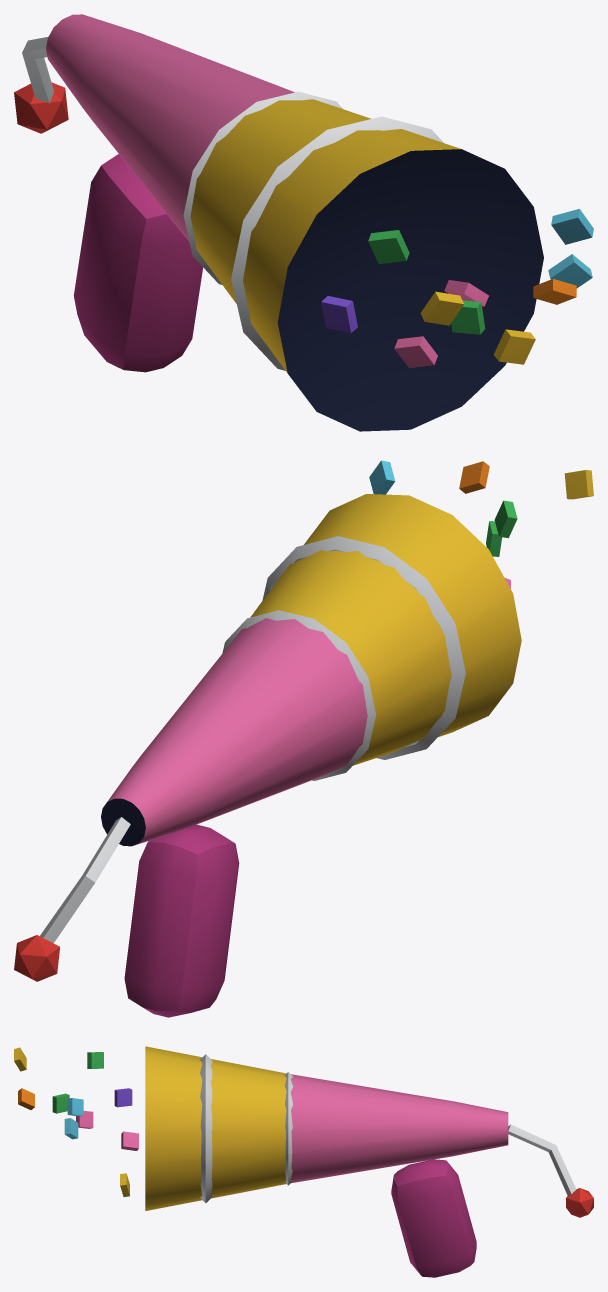
The model's file is w_g_popper.glb.
3 views of the same model, one above another, from view 1: azimuth 30°, elevation 25°; view 2: azimuth 150°, elevation 25°; view 3: azimuth 270°, elevation 25° (orthographic). The views are drawn at different scales.
Visible parts, largest first — view 1: body; view 2: body; view 3: body.
Boxes of the visible parts, <box> form: body: <box>14,14,593,431</box>; body: <box>14,460,593,1017</box>; body: <box>14,1046,593,1277</box>.
Bounding box in the file's own units: 0.165 × 0.2432 × 0.5797.
